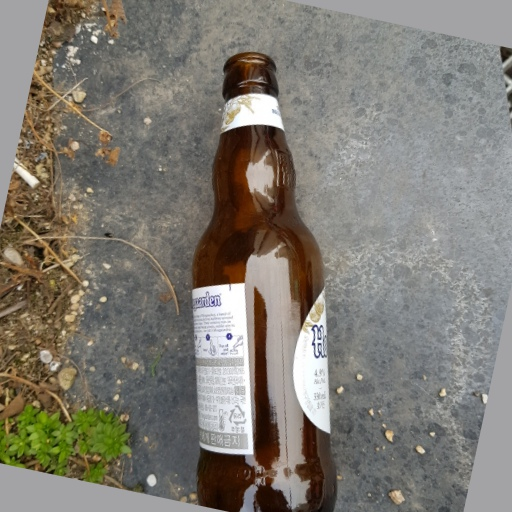Glass_1: (188, 50, 339, 512)
